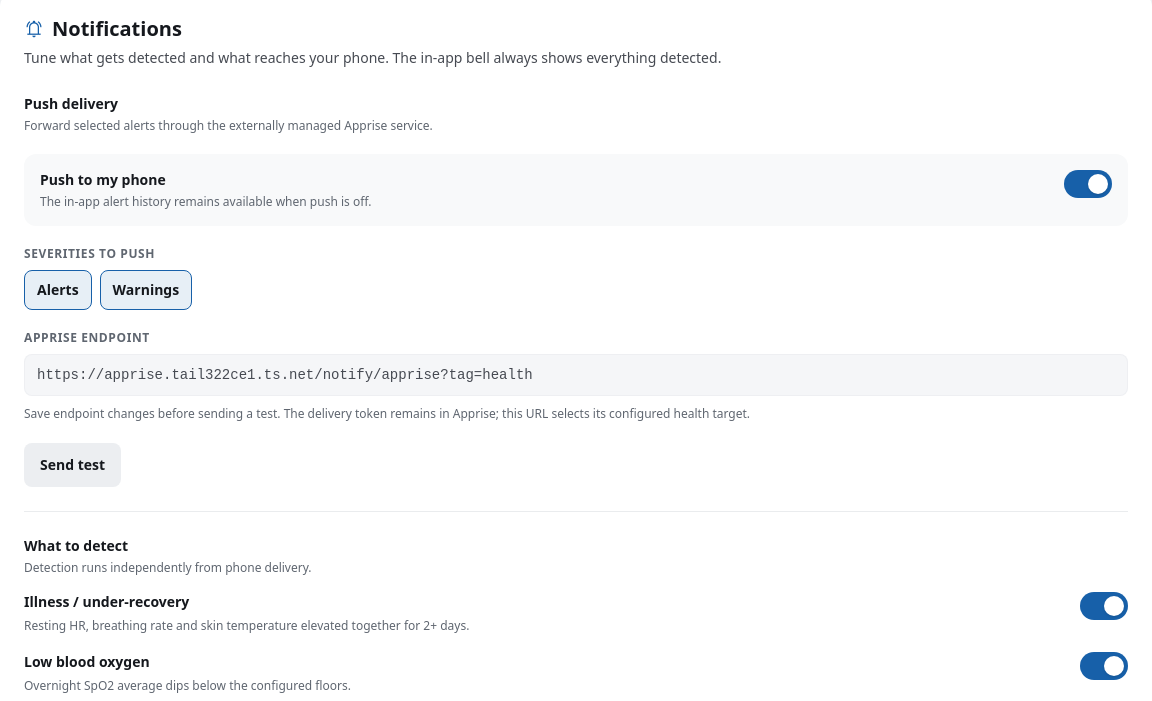
Scenario: NotificationSettingsCard › surfaces save and delivery-test request failures
The image size is (1152, 701).
Click the button with test id "notif-test". click: click(73, 465)
box: x1=24 y1=443 x2=121 y2=487
(page scrolled)
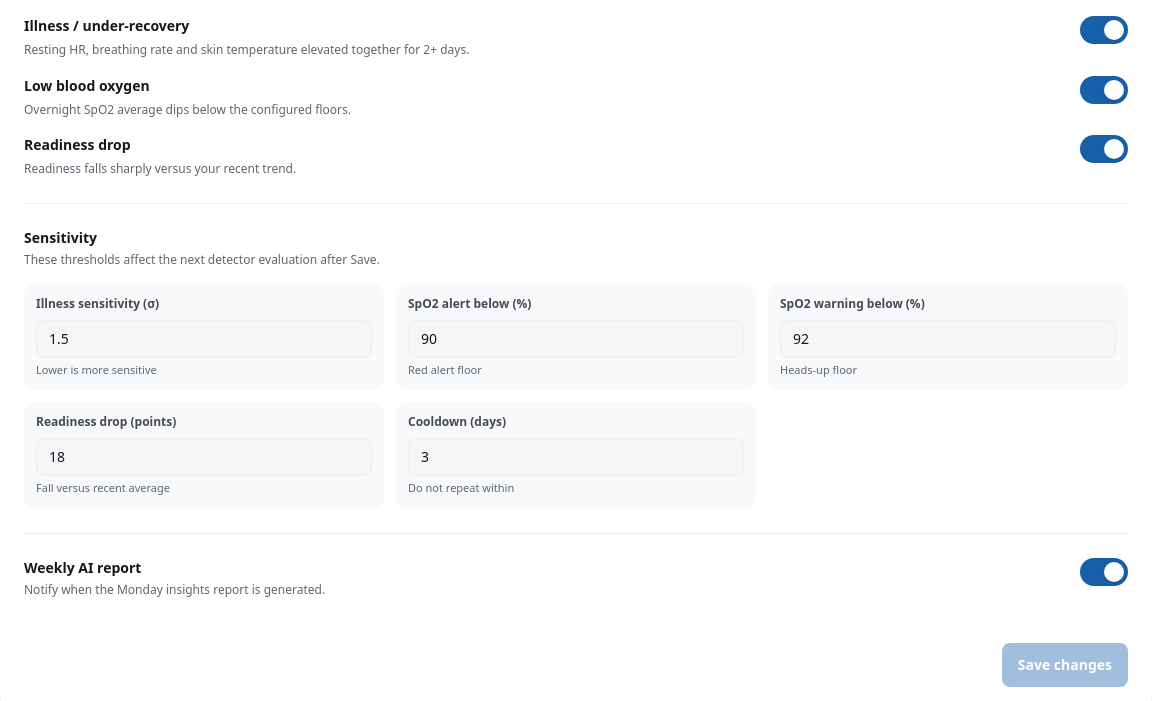
Click the switch with test id "notif-weekly-toggle". click: click(1104, 572)
box: x1=1080 y1=558 x2=1128 y2=586
(page scrolled)
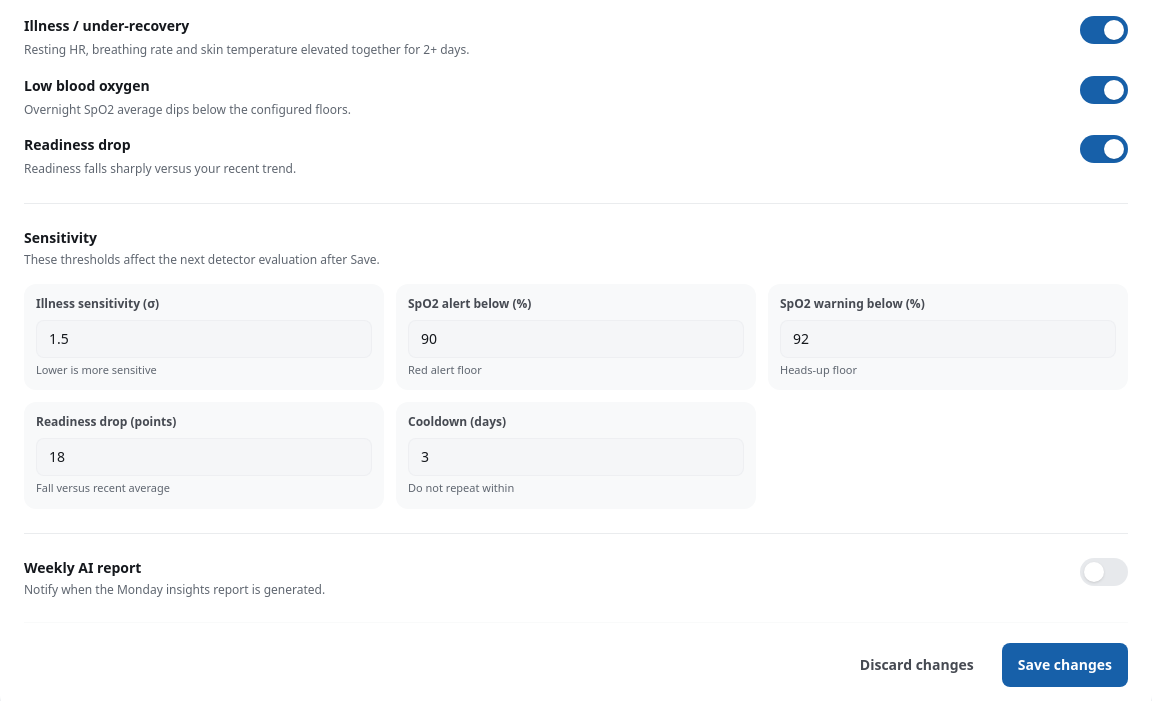
Click the button with test id "notif-save". click: click(1065, 665)
box: x1=1002 y1=643 x2=1128 y2=687
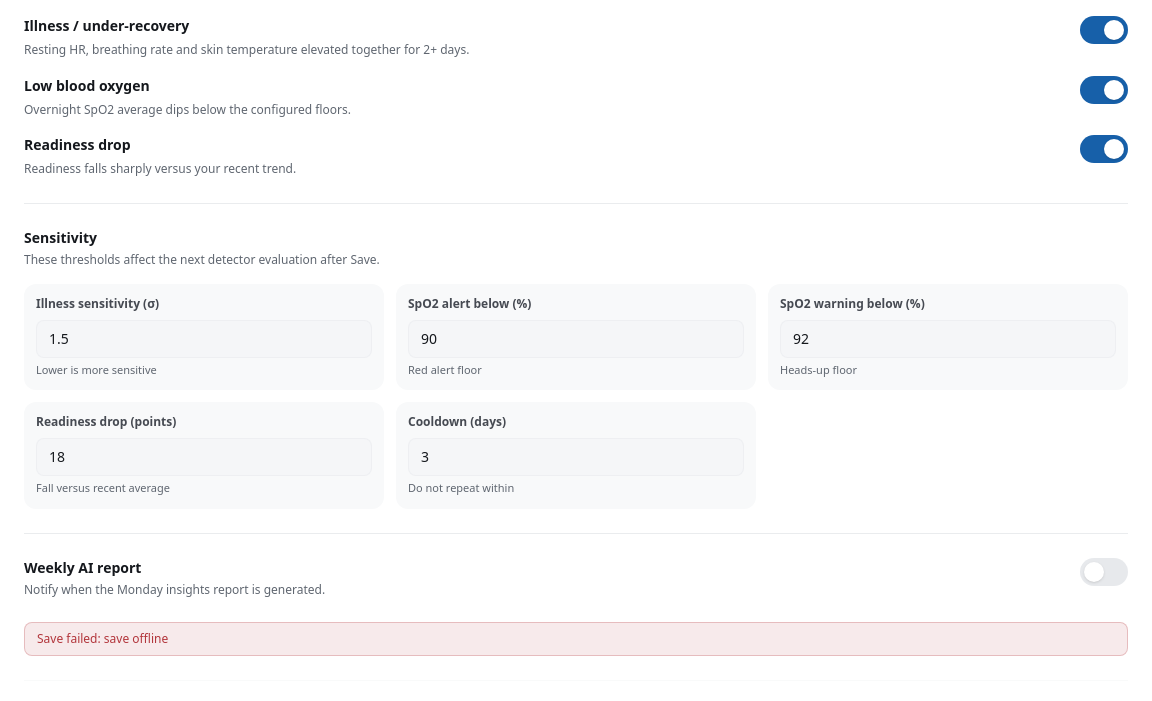
Expected: the text "Save failed: save offline" is shown, x1=24 y1=622 x2=1128 y2=656
